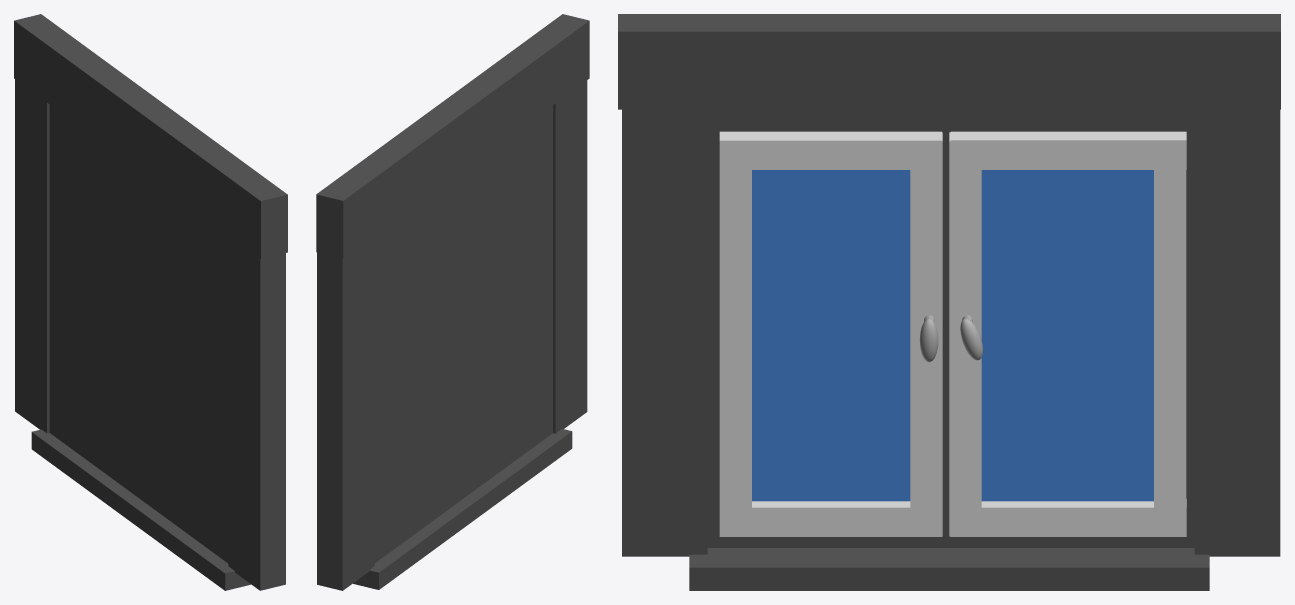
Rendered from окно2.fbx.
3 views of the same model, side by side, from view 1: azimuth 30°, elevation 25°; view 2: azimuth 150°, elevation 25°; view 3: azimuth 270°, elevation 25° (orthographic). The views are drawn at different scales.
Parts seen in each view (by area): view 1: Откосы; view 2: Откосы; view 3: Откосы, Plane, Plane.001, Cube.011, Cube.009.
Part boxes in pixels (left/top/right/bottom): Откосы: left=14, top=14, right=287, bottom=590; Откосы: left=316, top=14, right=589, bottom=590; Откосы: left=618, top=14, right=1280, bottom=590; Plane: left=981, top=170, right=1153, bottom=501; Plane.001: left=752, top=170, right=910, bottom=501; Cube.011: left=949, top=131, right=1186, bottom=536; Cube.009: left=719, top=131, right=942, bottom=536.
Bounding box in the file's own units: 200 × 1406 × 1545.
